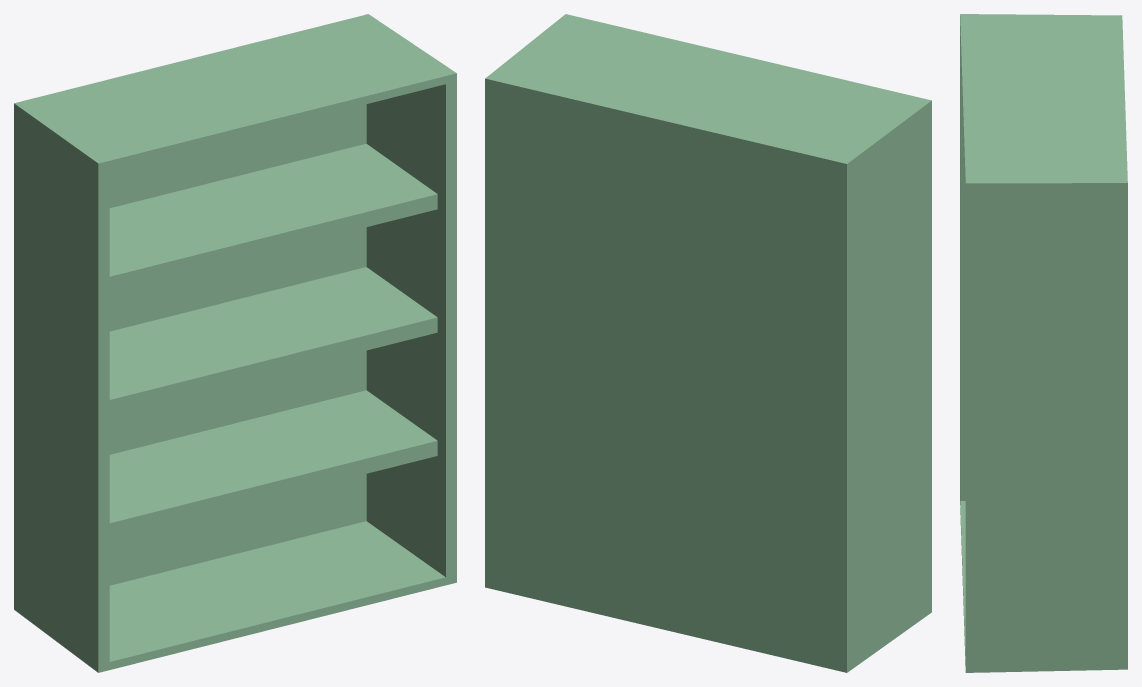
File: Shelf.FBX
3 renders of one model, left to right at view 1: azimuth 30°, elevation 25°; view 2: azimuth 150°, elevation 25°; view 3: azimuth 270°, elevation 25°, orthographic. The views are drawn at different scales.
Visible parts, largest first — view 1: Shelf; view 2: Shelf; view 3: Shelf.
Part boxes in pixels (bbox=[...]): Shelf: bbox=[14, 14, 456, 672]; Shelf: bbox=[485, 14, 931, 672]; Shelf: bbox=[960, 14, 1127, 672].
Bounding box in the file's own units: 60.4 × 81.34 × 25.27.
